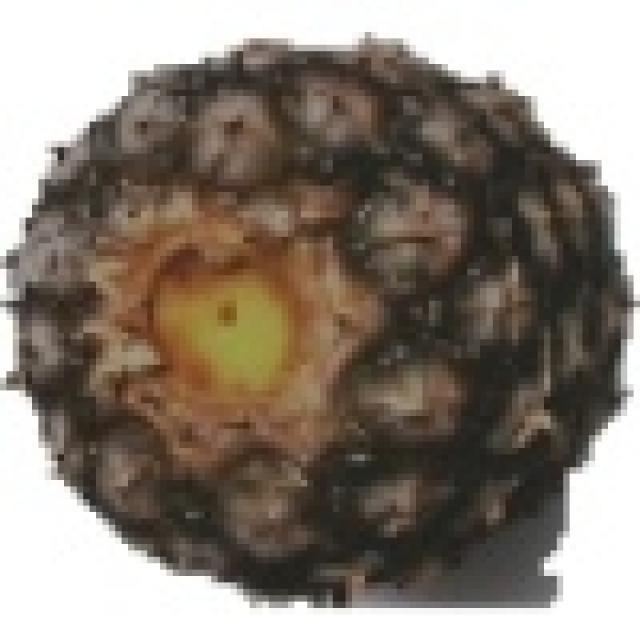pineapple: (6, 32, 614, 589)
